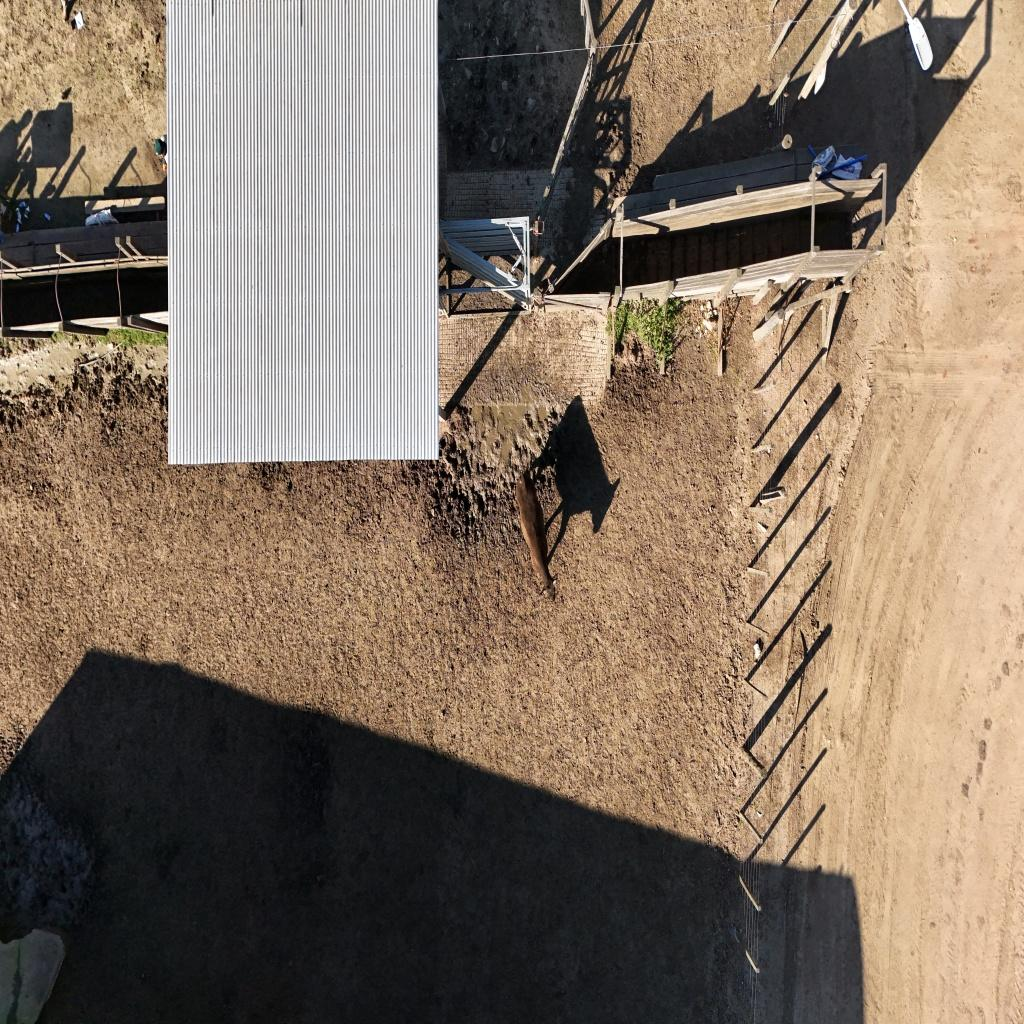cow: (515, 473, 558, 595)
